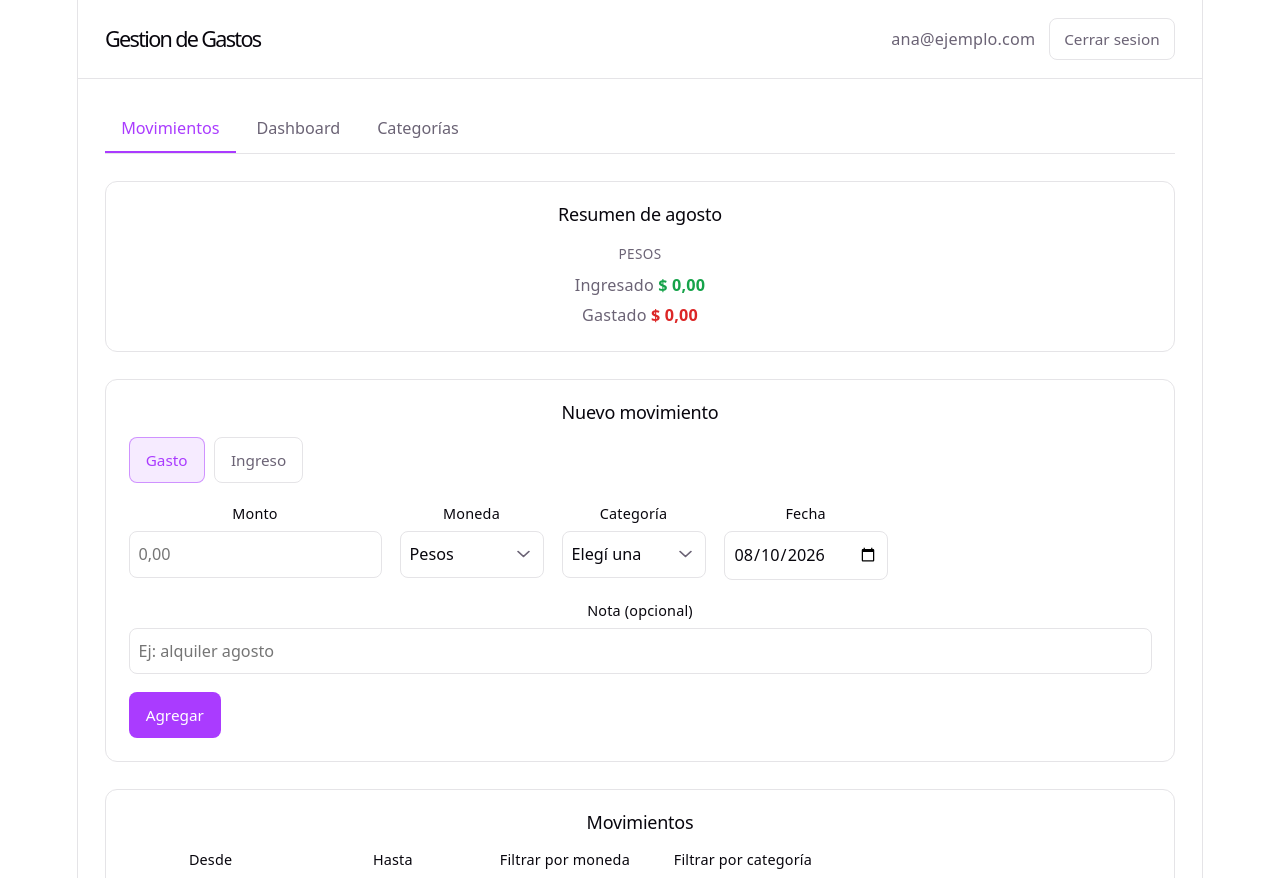
dashboard (RF-19 a RF-21) › AC-31: sin movimientos, todo en cero y sin ningún error
Click the tab "Dashboard": (298, 130) [240,106,356,153]
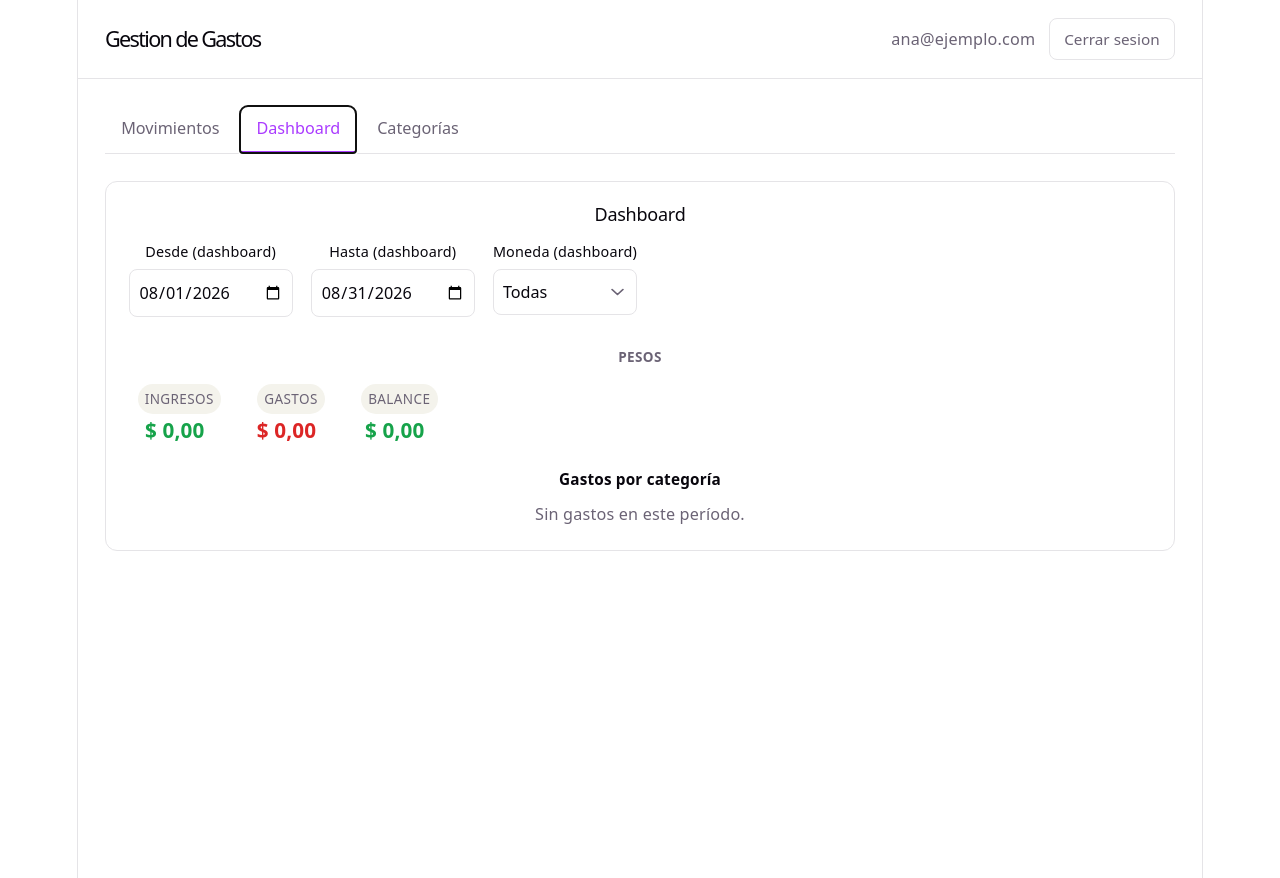
Expected: the element named "Dashboard en Pesos" is shown, [138,348,745,525]
Expected: the text "$ 0,00" is shown 3 times, [145,416,205,444]; [257,416,316,444]; [365,416,425,444]
Expected: the text "Sin gastos en este período." is shown, [535,503,745,525]
